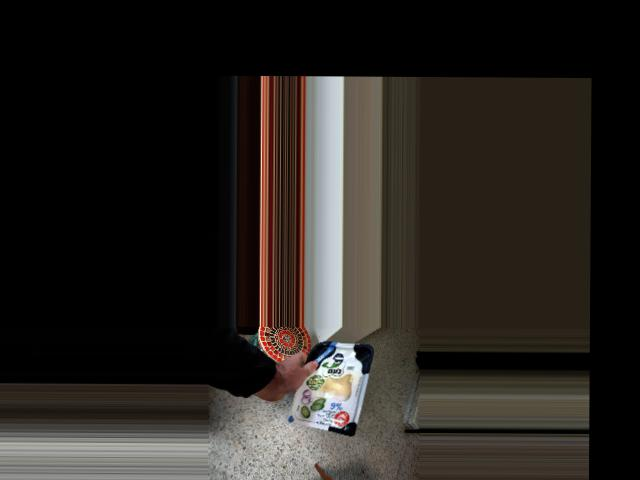cheese: (296, 335, 366, 437)
